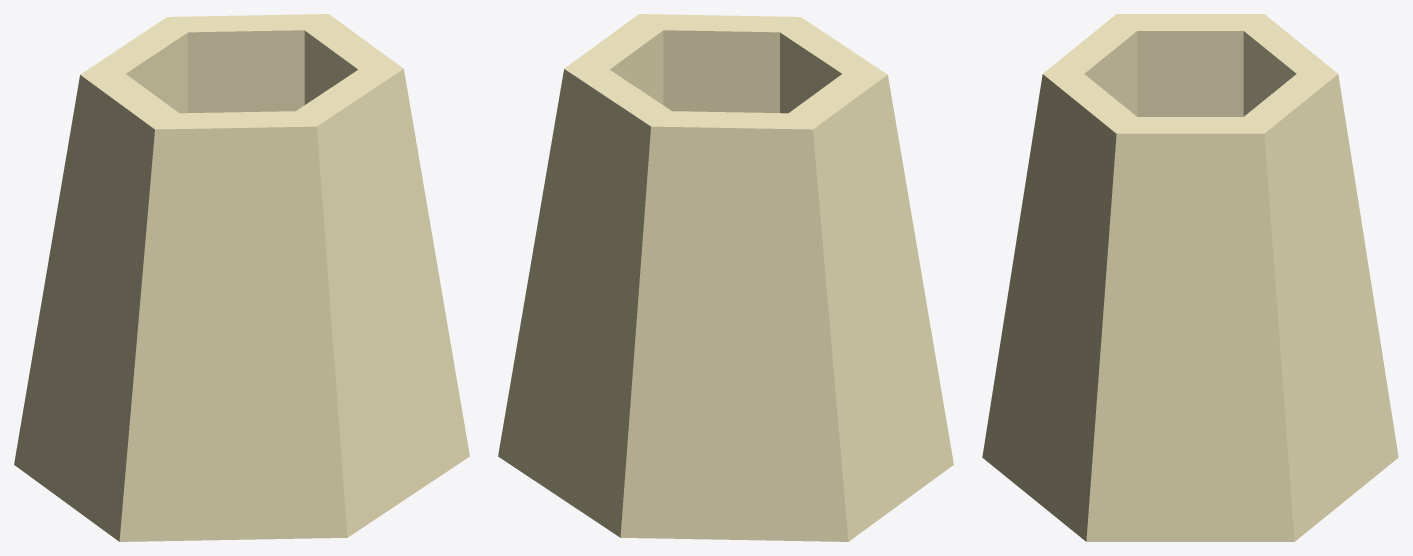
Rendered from bust.glb.
3 renders of one model, left to right at view 1: azimuth 30°, elevation 25°; view 2: azimuth 150°, elevation 25°; view 3: azimuth 270°, elevation 25°, orthographic.
Visible parts, largest first — view 1: clueAnimalBustSceneLampshade.001; view 2: clueAnimalBustSceneLampshade.001; view 3: clueAnimalBustSceneLampshade.001.
Part boxes in pixels (x1,y1,x2,y2): clueAnimalBustSceneLampshade.001: [14, 14, 469, 541]; clueAnimalBustSceneLampshade.001: [498, 14, 953, 541]; clueAnimalBustSceneLampshade.001: [982, 14, 1398, 541].
Bounding box in the file's own units: 0.1398 × 0.1482 × 0.1458.
